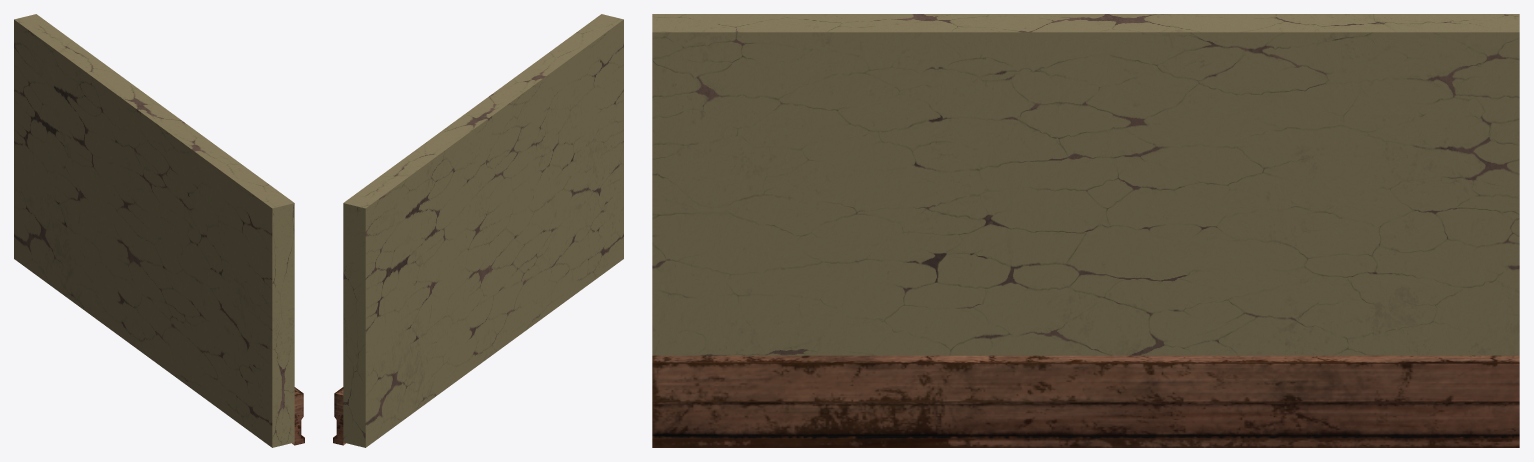
The model's file is Wall_Half_C.fbx.
3 renders of one model, left to right at view 1: azimuth 30°, elevation 25°; view 2: azimuth 150°, elevation 25°; view 3: azimuth 270°, elevation 25°, orthographic. The views are drawn at different scales.
Parts seen in each view (by area): view 1: Wall_Half_A.001; view 2: Wall_Half_A.001; view 3: Wall_Half_A.001.
Boxes of the visible parts, x1,y1,x2,y2 form: Wall_Half_A.001: (14,14,304,447); Wall_Half_A.001: (333,14,623,447); Wall_Half_A.001: (652,14,1519,447).
Size of the model in its own units: 0.1458 by 1.04 by 2.
